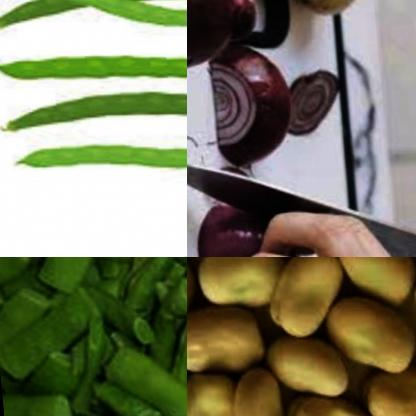beans: (187, 257, 416, 416), (0, 257, 187, 416), (0, 42, 187, 180)
garlic: (270, 0, 411, 25)
onion: (198, 49, 301, 177), (282, 66, 364, 148), (187, 0, 268, 82), (195, 206, 305, 257)
